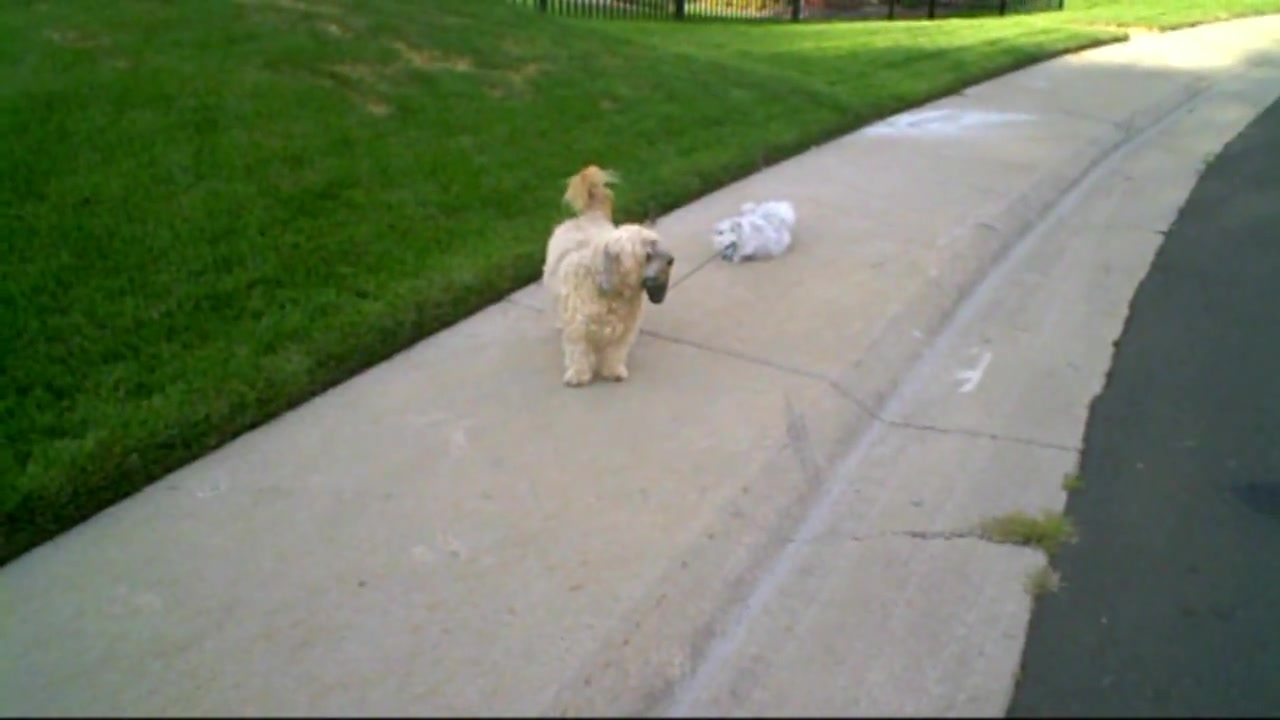dog: (539, 169, 679, 389)
